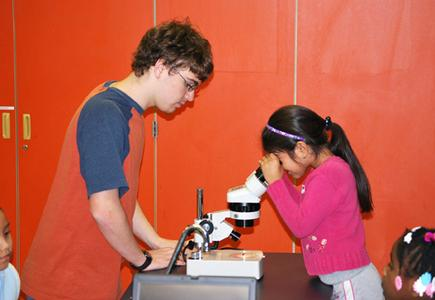person: (258, 105, 388, 300)
